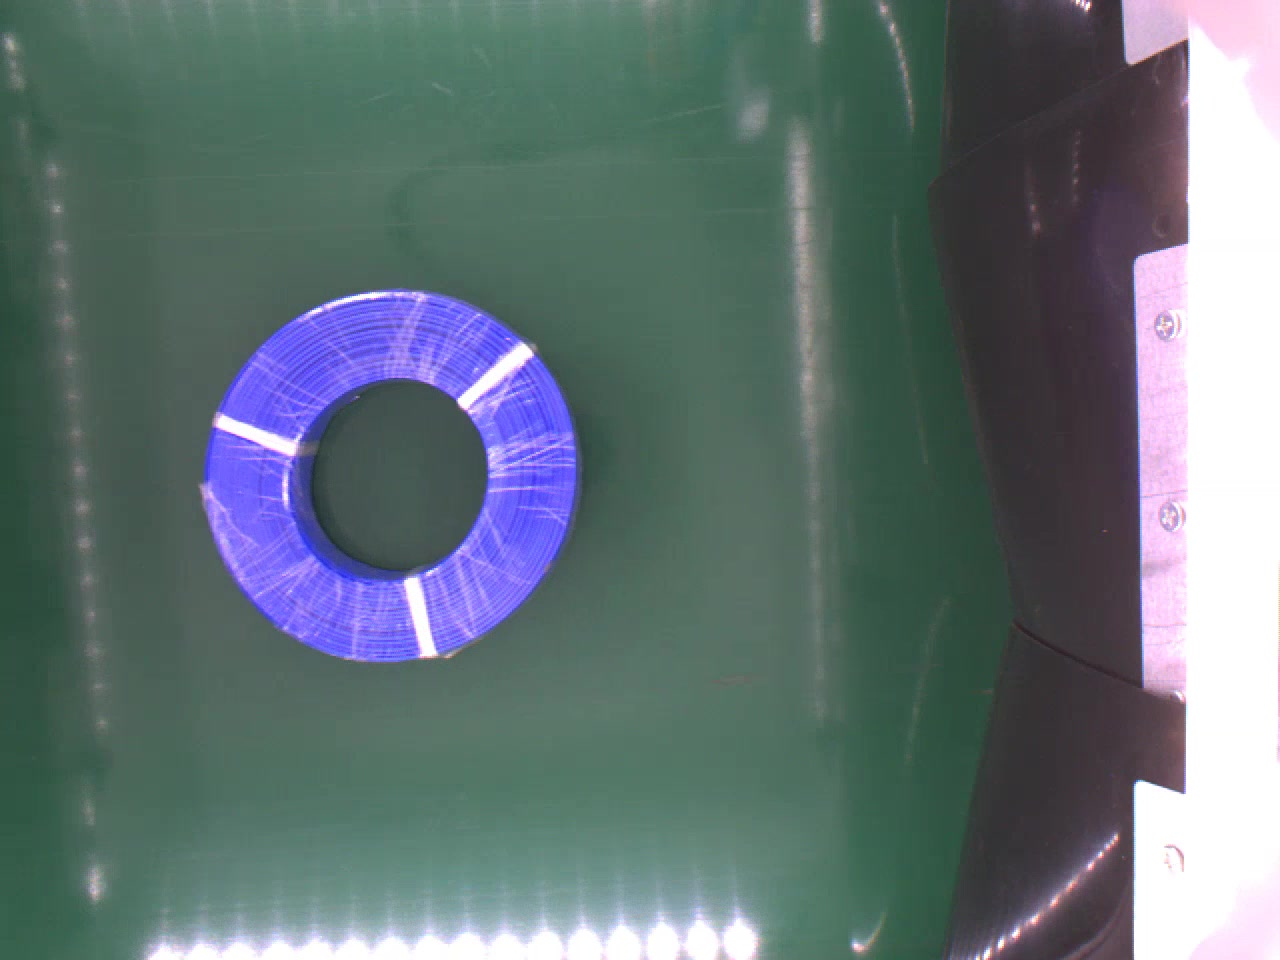blue: (195, 285, 589, 663)
